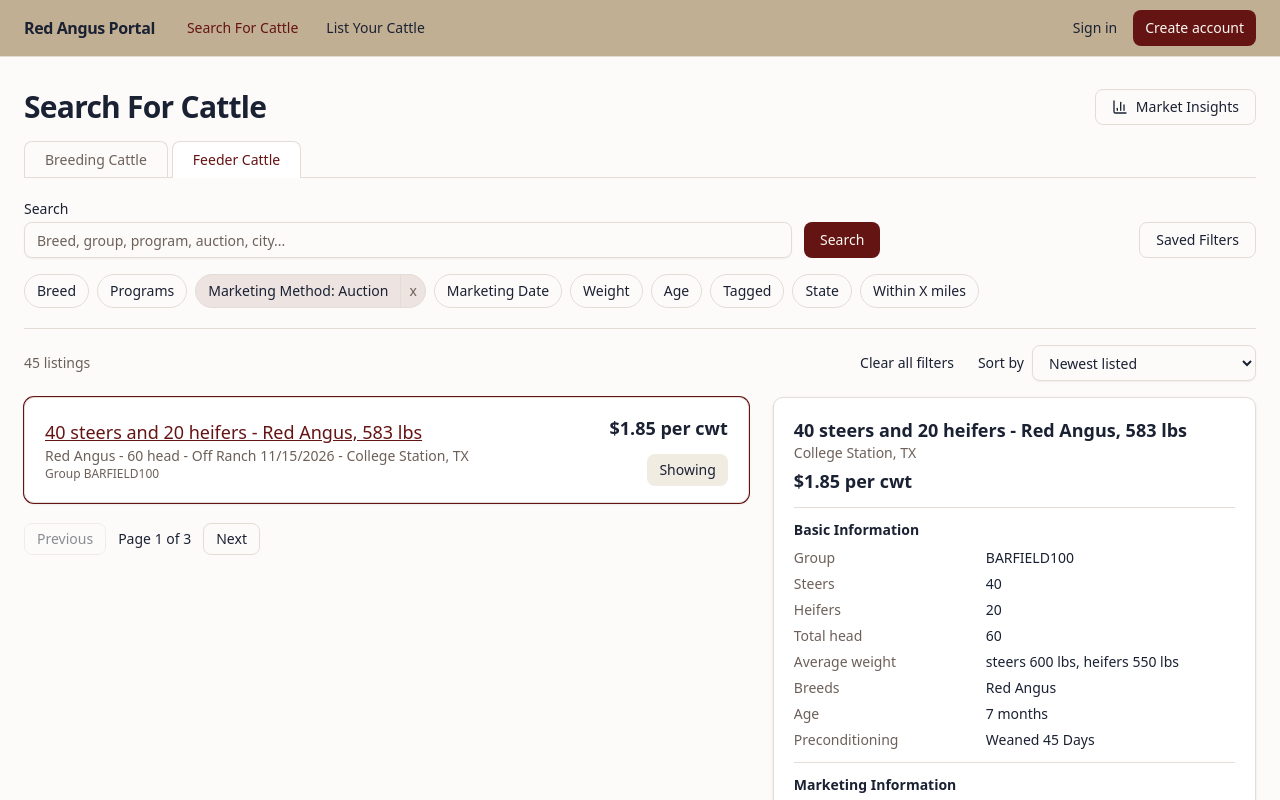
Test: sorting and paging › next page asks for page 2 and keeps the filters
This screenshot has width=1280, height=800.
Click the button "Next" at (232, 539), box [203, 523, 260, 555]
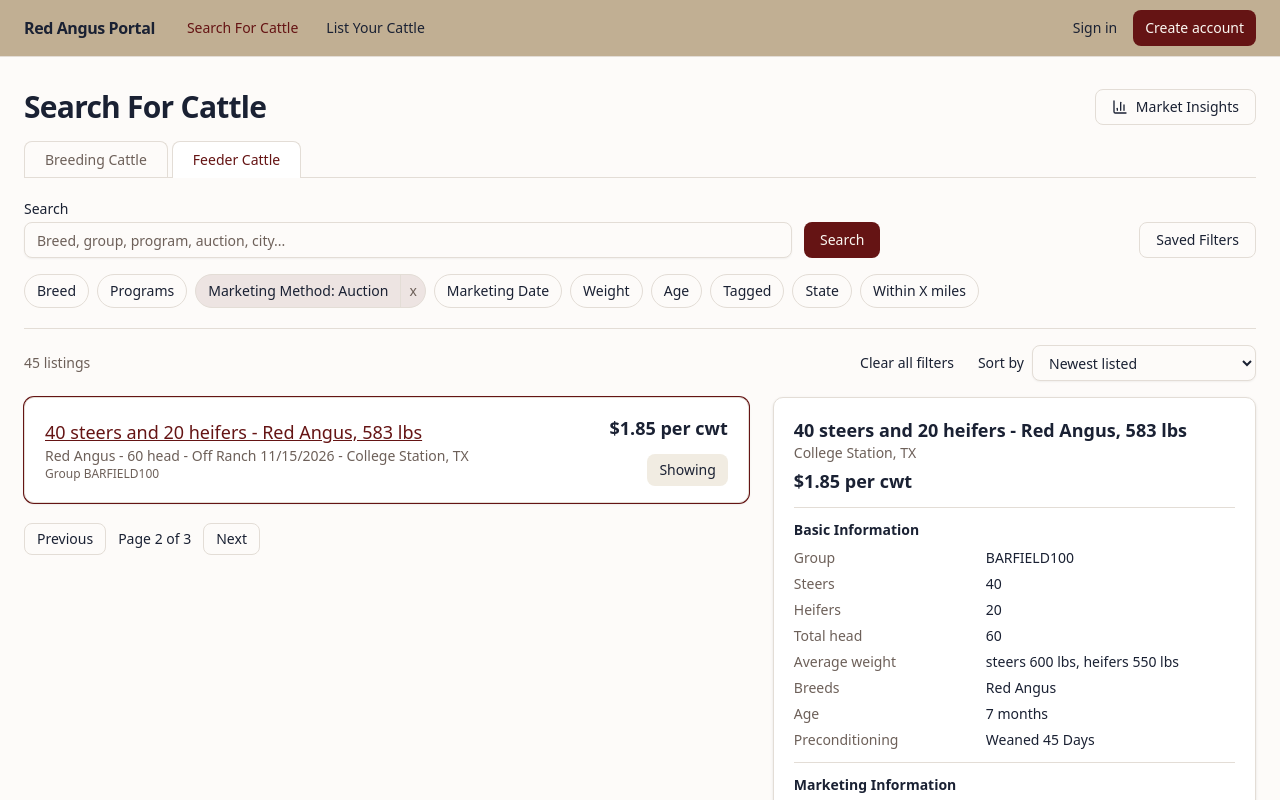
Check: the text "Page 2 of 3" is shown, box [118, 529, 191, 549]
